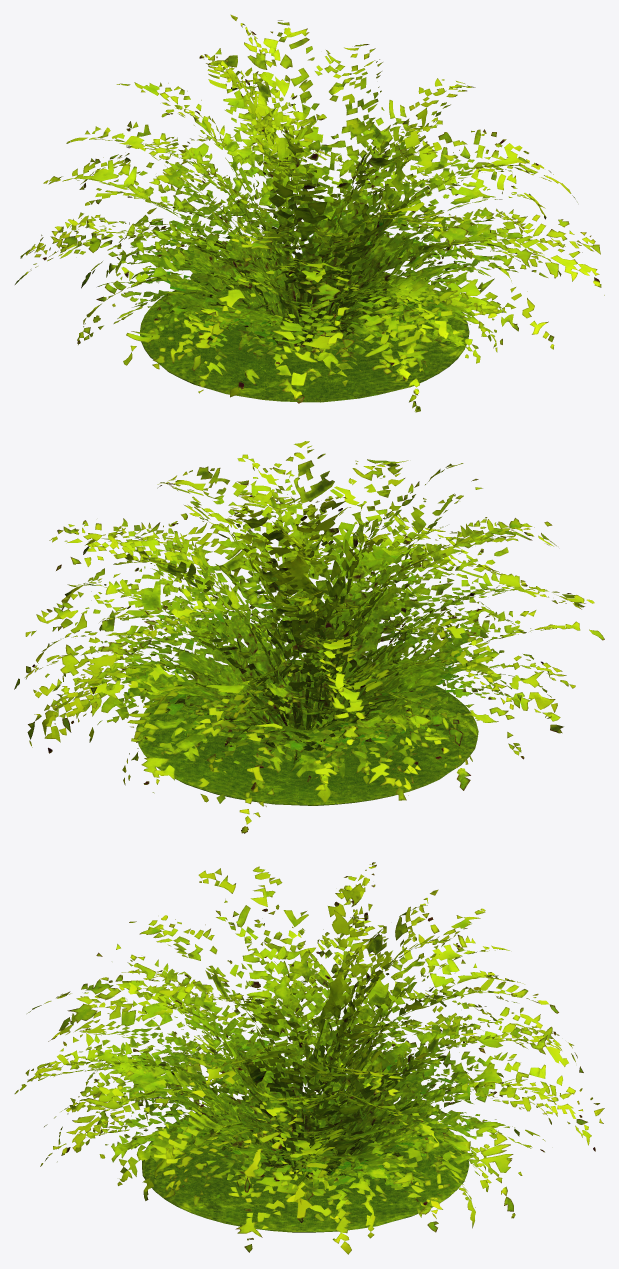
The model's file is raw_meshy_model.glb.
3 views of the same model, one above another, from view 1: azimuth 30°, elevation 25°; view 2: azimuth 150°, elevation 25°; view 3: azimuth 270°, elevation 25° (orthographic). The views are drawn at different scales.
Size of the model in its own units: 1.77 by 1.02 by 1.89.
Materials: 1 (1 with a texture image).
